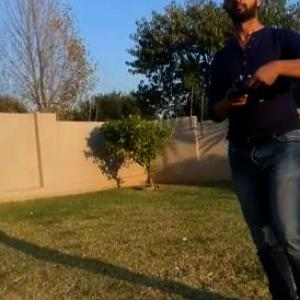follow: (207, 0, 300, 299)
